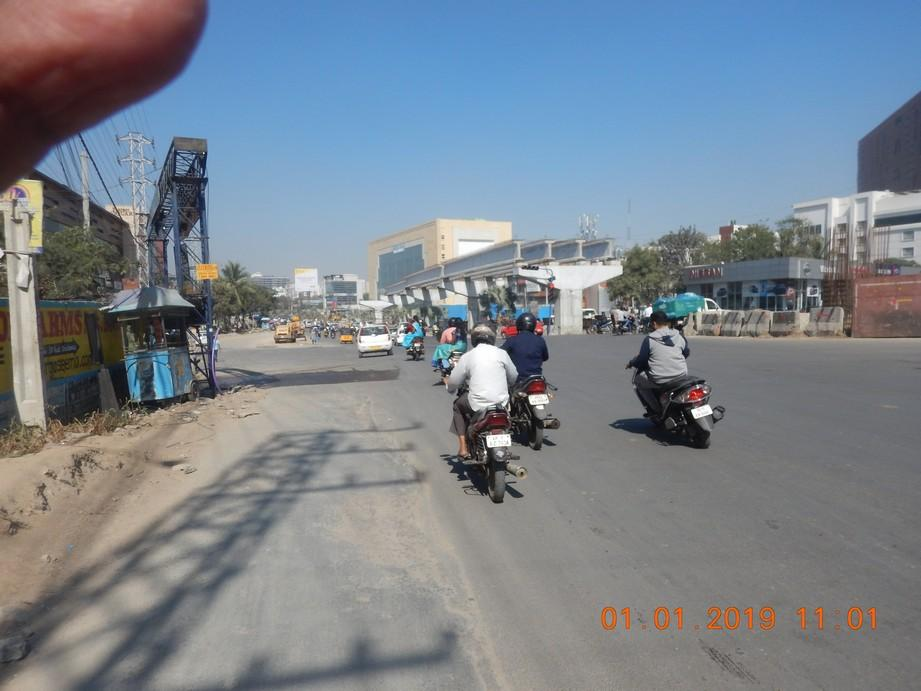plate: (485, 434, 512, 448)
